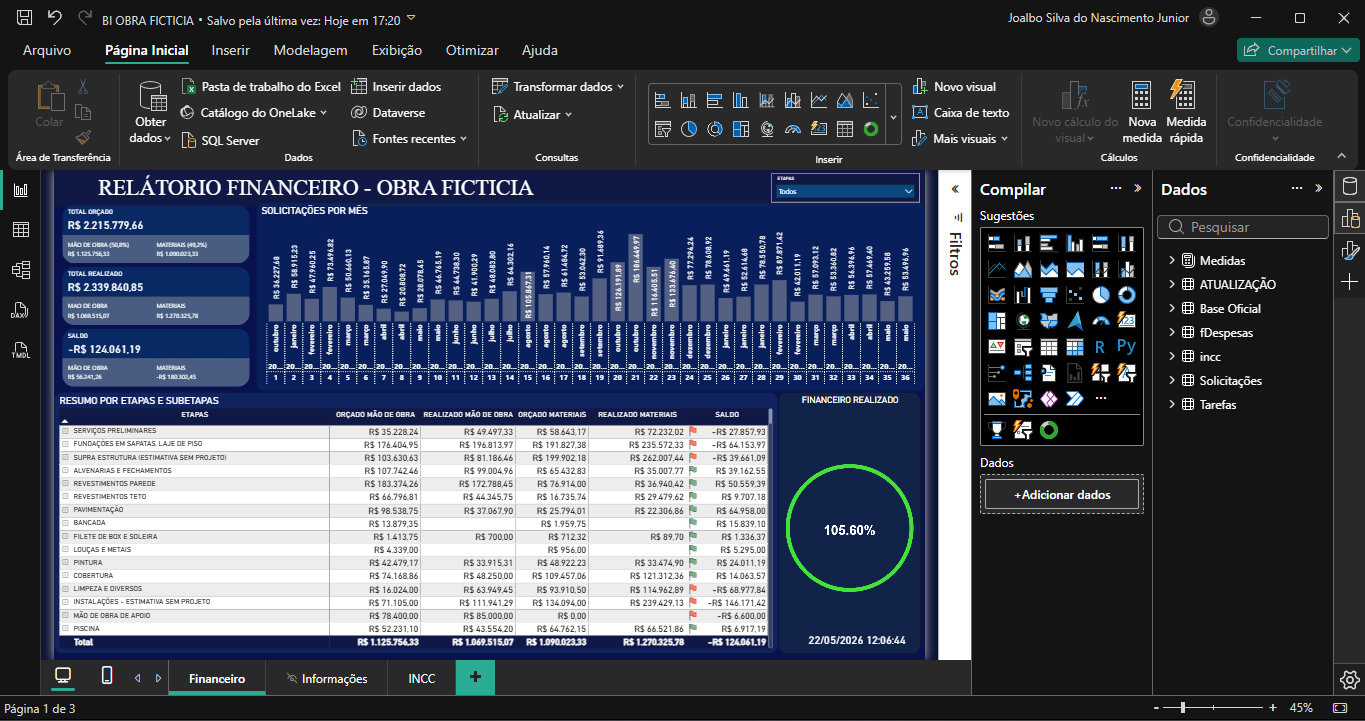

What the dashboard file says about the page in this screenshot:
{"tool":"powerbi","page":{"name":"Financeiro","canvas":[1920,1080],"ordinal":0},"visuals":[{"type":"shape","box":[0,0,1920.1,79.6],"z":0},{"type":"textbox","box":[92.6,6.6,1245.3,70.5],"z":1000},{"type":"clusteredColumnChart","title":"SOLICITAÇÕES POR MÊS","fields":{"Y":["Sum(Solicitações.VALOR)"],"Category":["Solicitações.SOLICITAÇÃO","Solicitações.MES.Variation.Hierarquia de datas.Ano","Solicitações.MES.Variation.Hierarquia de datas.Mês"]},"box":[445,71.3,1475.3,419],"z":3000},{"type":"payPalKPIDonutChart55A431AB15A540ED924ACD72ED8D259F","fields":{"myvalue":["Medidas.FINANCEIRO REALIZADO"]},"box":[1596.2,490.3,315.4,576.7],"z":4000},{"type":"slicer","fields":{"Values":["Tarefas.ETAPAS"]},"box":[1579.8,7.2,327.5,65.1],"z":5000},{"type":"pivotTable","title":"RESUMO POR ETAPAS E SUBETAPAS","fields":{"Values":["Sum(BASE OFICIAL.ORCADO M.O)","Medidas.REALIZADO MAO DE OBRA","Sum(BASE OFICIAL.ORCADO MAT)","Medidas.REALIZADO MATERIAL","Medidas.SALDO"],"Rows":["Tarefas.ETAPAS","Tarefas.DESCRICAO","fDespesas.partner","fDespesas.description"]},"box":[0,490.3,1596.2,576.7],"z":6000},{"type":"cardVisual","fields":{"Data":["Medidas.TOTAL ORÇADO","Medidas.TOTAL REALIZADO","Medidas.SALDO"]},"box":[13,73.4,423.4,412.6],"z":7000},{"type":"card","fields":{"Values":["Min(ATUALIZAÇÃO.Column1)"]},"box":[1619.7,989.5,300.3,91.2],"z":8000}]}

Visuals, with their boxes on the page's 1920x1080 design canvas (x1, y1, x2, y2). These are canvas units, not pixel positions in the 1365x721 screenshot, which may show the page scaled, cropped or inside an application window:
shape: 0/0/1920/80
textbox: 93/7/1338/77
"SOLICITAÇÕES POR MÊS" clusteredColumnChart: 445/71/1920/490
payPalKPIDonutChart55A431AB15A540ED924ACD72ED8D259F - Medidas.FINANCEIRO REALIZADO: 1596/490/1912/1067
slicer - Tarefas.ETAPAS: 1580/7/1907/72
"RESUMO POR ETAPAS E SUBETAPAS" pivotTable: 0/490/1596/1067
cardVisual - Medidas.TOTAL ORÇADO x Medidas.TOTAL REALIZADO: 13/73/436/486
card - Min(ATUALIZAÇÃO.Column1): 1620/990/1920/1081
